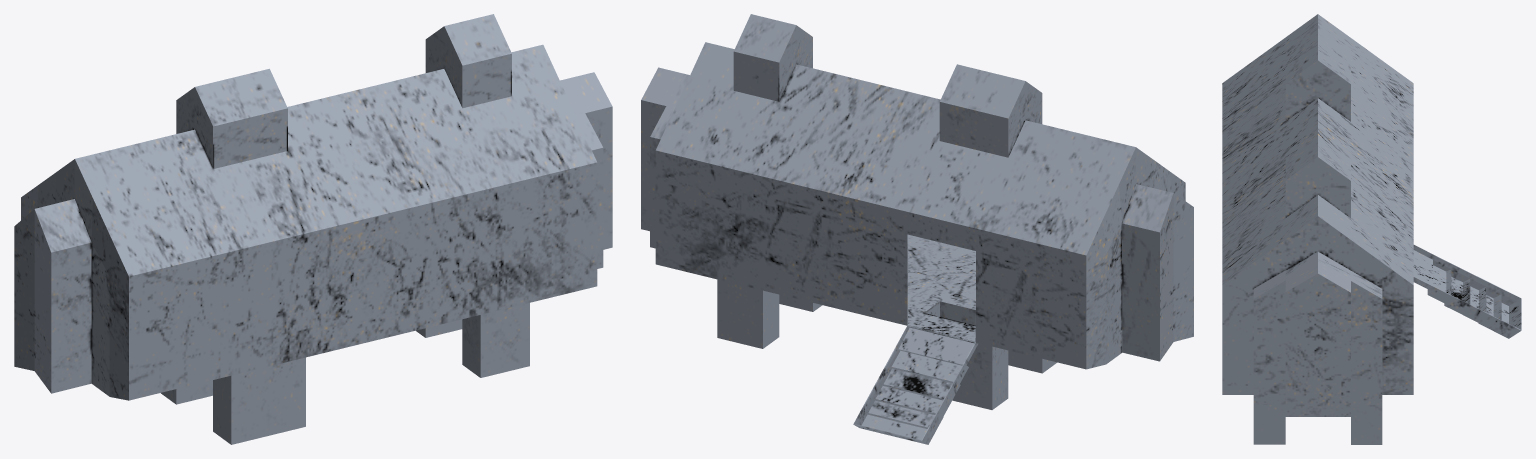
The model's file is SpaceShip.fbx.
3 renders of one model, left to right at view 1: azimuth 30°, elevation 25°; view 2: azimuth 150°, elevation 25°; view 3: azimuth 270°, elevation 25°, orthographic. The views are drawn at different scales.
Visible parts, largest first — view 1: Ship; view 2: Ship; view 3: Ship.
Part boxes in pixels (left/top/right/bottom): Ship: left=14, top=14, right=612, bottom=444; Ship: left=641, top=14, right=1193, bottom=444; Ship: left=1222, top=14, right=1521, bottom=444.
Bounding box in the file's own units: 1607 × 905 × 837.
Materials: 1 (1 with a texture image).
